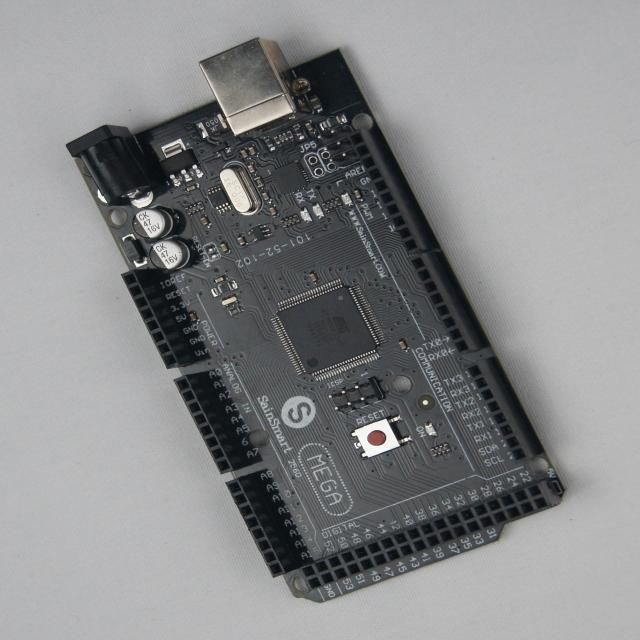Arduino Mega 2560 -Black-: (67, 39, 565, 603)
